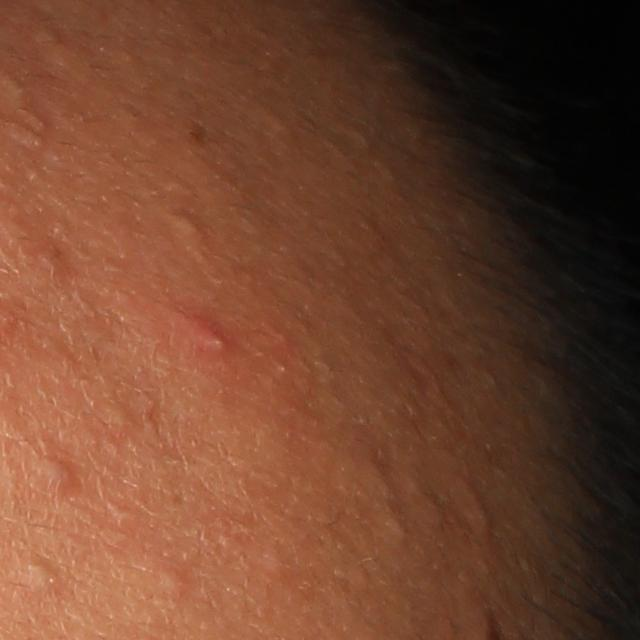comedo: (98, 392, 139, 430), (23, 556, 59, 589), (154, 564, 186, 600), (168, 211, 205, 242), (378, 511, 407, 543)
papule: (173, 308, 234, 363), (30, 448, 80, 490)
